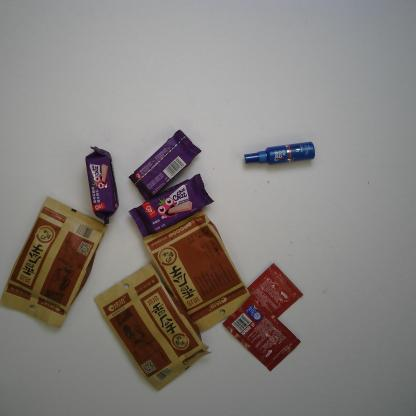Dessert: (127, 172, 214, 238), (128, 128, 203, 201), (84, 144, 121, 227)
Dried Food: (92, 260, 213, 393), (140, 210, 255, 336), (0, 196, 109, 328)
Personal Hygiene: (242, 139, 317, 169)
Seasoner: (221, 293, 302, 374), (229, 261, 304, 334)
